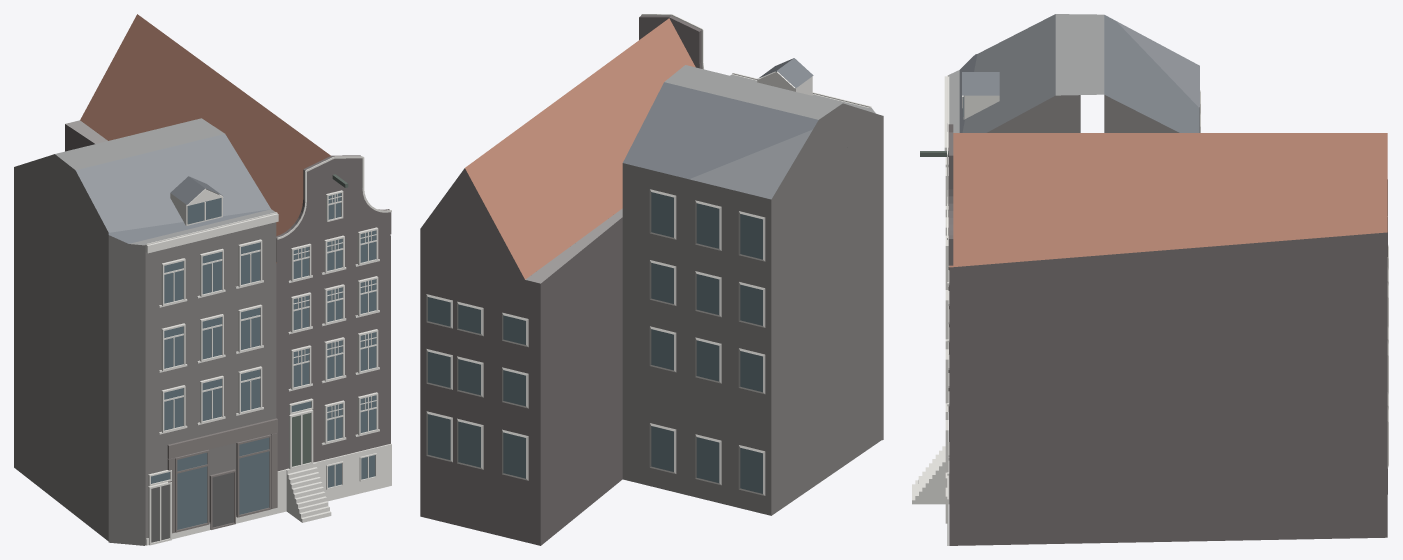
The model's file is chunk-face-lauriergracht-71-127-h1.glb.
The picture shows the model from 3 angles, left to right: view 1: azimuth 30°, elevation 25°; view 2: azimuth 150°, elevation 25°; view 3: azimuth 270°, elevation 25°; orthographic projection. The views are drawn at different scales.
Visible parts, largest first — view 1: face-lauriergracht-71-127-h1; view 2: face-lauriergracht-71-127-h1; view 3: face-lauriergracht-71-127-h1.
Boxes of the visible parts, left/top/right/bottom form: face-lauriergracht-71-127-h1: left=14, top=14, right=391, bottom=545; face-lauriergracht-71-127-h1: left=420, top=14, right=883, bottom=545; face-lauriergracht-71-127-h1: left=912, top=14, right=1388, bottom=545.
Size of the model in its own units: 13.19 by 16.08 by 18.
